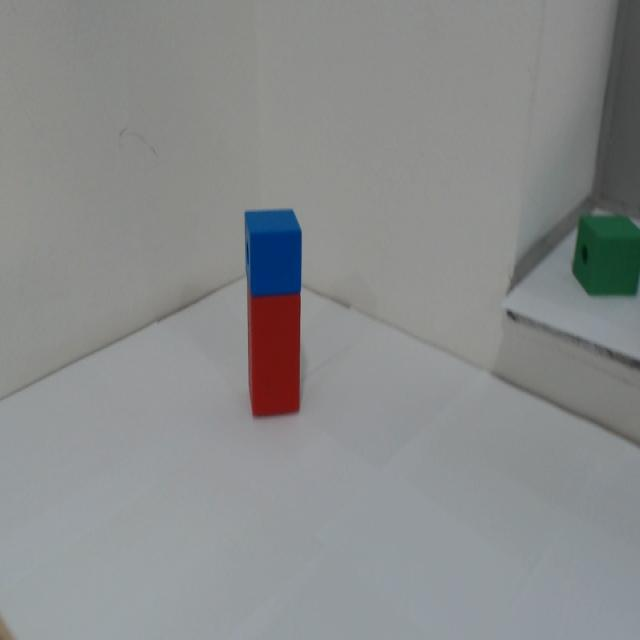cube: (228, 169, 315, 297)
